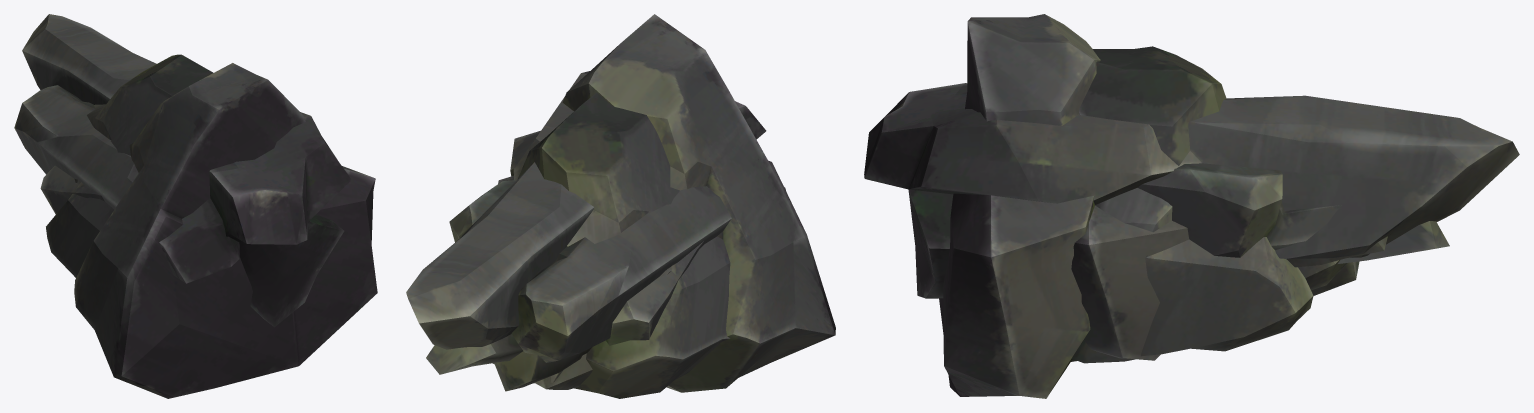
The model's file is rocks.glb.
The picture shows the model from 3 angles, left to right: view 1: azimuth 30°, elevation 25°; view 2: azimuth 150°, elevation 25°; view 3: azimuth 270°, elevation 25°; orthographic projection. The views are drawn at different scales.
Parts seen in each view (by area): view 1: Rock_5, Rock_4, Rock_2, Rock_3; view 2: Rock_5, Rock_4, Rock_2, Rock_3; view 3: Rock_4, Rock_5, Rock_2, Rock_3, Rock_1.
Part boxes in pixels (left/top/right/bottom): Rock_5: left=74, top=63, right=377, bottom=398; Rock_4: left=14, top=14, right=351, bottom=327; Rock_2: left=46, top=54, right=213, bottom=277; Rock_3: left=40, top=165, right=104, bottom=214; Rock_5: left=426, top=14, right=835, bottom=392; Rock_4: left=406, top=71, right=785, bottom=362; Rock_2: left=494, top=92, right=730, bottom=398; Rock_3: left=449, top=180, right=704, bottom=383; Rock_4: left=864, top=83, right=1519, bottom=298; Rock_5: left=939, top=14, right=1449, bottom=398; Rock_2: left=1071, top=46, right=1359, bottom=360; Rock_3: left=1137, top=163, right=1387, bottom=267; Rock_1: left=1298, top=260, right=1347, bottom=290.
Size of the model in its own units: 1.29 by 1.32 by 2.15.
Materials: 1 (1 with a texture image).
